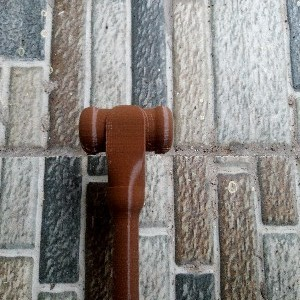palu: (79, 103, 174, 300)
